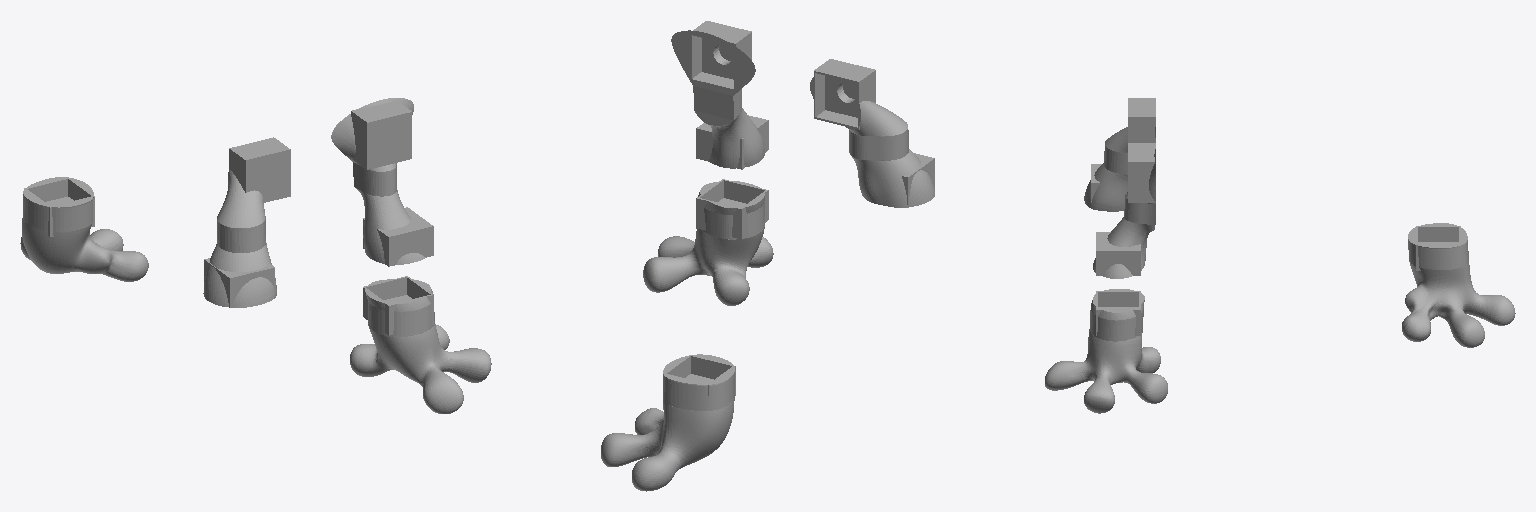
URDF robot description (FrogBot1_top-FrogBot1-y-5_bottom-FrogBot1-y-5):
<?xml version="1.0" ?>
<robot name="FrogBot1_top-FrogBot1-y-5_bottom-FrogBot1-y-5">

<material name="pla_5_percent_infill">
  <color rgba="0.700 0.700 0.700 1.000"/>
</material>

<link name="base_link">
  <inertial>
    <origin xyz="0 0 0" rpy="0 0 0"/>
    <mass value="1.4103143072721238"/>
    <inertia ixx="0.004671865419262023" iyy="0.01102984328633242" izz="0.011972094032648898" ixy="0.00015185420958179873" iyz="8.583160306759328e-05" ixz="-0.0012132770853355082"/>
  </inertial>
  <visual>
    <origin xyz="0 0 0" rpy="0 0 0"/>
    <geometry>
      <mesh filename="simple_meshes/base_link.stl" scale="0.001 0.001 0.001"/>
    </geometry>
    <material name="pla_5_percent_infill"/>
  </visual>
  <collision>
    <origin xyz="0 0 0" rpy="0 0 0"/>
    <geometry>
      <mesh filename="simple_meshes/base_link.stl" scale="0.001 0.001 0.001"/>
    </geometry>
  </collision>
</link>

<link name="body_1_0_1">
  <inertial>
    <origin xyz="-0.045735 -0.109621 -0.00462" rpy="0 0 0"/>
    <mass value="0.04076733192908442"/>
    <inertia ixx="4.3072086098041576e-05" iyy="4.487010193946435e-05" izz="1.4727795073479029e-05" ixy="-4.484853652475659e-07" iyz="3.1374613737960005e-06" ixz="6.302743278860018e-07"/>
  </inertial>
  <visual>
    <origin xyz="-0.045735 -0.109621 -0.00462" rpy="0 0 0"/>
    <geometry>
      <mesh filename="simple_meshes/body_1_0_1.stl" scale="0.001 0.001 0.001"/>
    </geometry>
    <material name="pla_5_percent_infill"/>
  </visual>
  <collision>
    <origin xyz="-0.045735 -0.109621 -0.00462" rpy="0 0 0"/>
    <geometry>
      <mesh filename="simple_meshes/body_1_0_1.stl" scale="0.001 0.001 0.001"/>
    </geometry>
  </collision>
</link>

<link name="body_1_1_1">
  <inertial>
    <origin xyz="0.086489 -0.109621 -0.018802" rpy="0 0 0"/>
    <mass value="0.0738080375296614"/>
    <inertia ixx="8.428066584774451e-05" iyy="9.202499150781141e-05" izz="4.261502619134182e-05" ixy="6.065863290844386e-06" iyz="1.3777161068049767e-05" ixz="-2.092802454114692e-05"/>
  </inertial>
  <visual>
    <origin xyz="0.086489 -0.109621 -0.018802" rpy="0 0 0"/>
    <geometry>
      <mesh filename="simple_meshes/body_1_1_1.stl" scale="0.001 0.001 0.001"/>
    </geometry>
    <material name="pla_5_percent_infill"/>
  </visual>
  <collision>
    <origin xyz="0.086489 -0.109621 -0.018802" rpy="0 0 0"/>
    <geometry>
      <mesh filename="simple_meshes/body_1_1_1.stl" scale="0.001 0.001 0.001"/>
    </geometry>
  </collision>
</link>

<link name="body_1_2_1">
  <inertial>
    <origin xyz="-0.040267 0.109621 -0.027764" rpy="0 0 0"/>
    <mass value="0.05244313767564796"/>
    <inertia ixx="8.364642834632016e-05" iyy="8.220677656846922e-05" izz="2.305007954526788e-05" ixy="6.326543817606147e-07" iyz="-1.4212112030879086e-05" ixz="-1.8209087853273255e-07"/>
  </inertial>
  <visual>
    <origin xyz="-0.040267 0.109621 -0.027764" rpy="0 0 0"/>
    <geometry>
      <mesh filename="simple_meshes/body_1_2_1.stl" scale="0.001 0.001 0.001"/>
    </geometry>
    <material name="pla_5_percent_infill"/>
  </visual>
  <collision>
    <origin xyz="-0.040267 0.109621 -0.027764" rpy="0 0 0"/>
    <geometry>
      <mesh filename="simple_meshes/body_1_2_1.stl" scale="0.001 0.001 0.001"/>
    </geometry>
  </collision>
</link>

<link name="body_1_3_1">
  <inertial>
    <origin xyz="0.090407 0.109621 -0.022193" rpy="0 0 0"/>
    <mass value="0.07409915978361464"/>
    <inertia ixx="9.221727456455156e-05" iyy="0.00010198915454674175" izz="4.6188990378510496e-05" ixy="-7.4524640316783394e-06" iyz="-1.69424132627028e-05" ixz="-2.5273653570648393e-05"/>
  </inertial>
  <visual>
    <origin xyz="0.090407 0.109621 -0.022193" rpy="0 0 0"/>
    <geometry>
      <mesh filename="simple_meshes/body_1_3_1.stl" scale="0.001 0.001 0.001"/>
    </geometry>
    <material name="pla_5_percent_infill"/>
  </visual>
  <collision>
    <origin xyz="0.090407 0.109621 -0.022193" rpy="0 0 0"/>
    <geometry>
      <mesh filename="simple_meshes/body_1_3_1.stl" scale="0.001 0.001 0.001"/>
    </geometry>
  </collision>
</link>

<link name="body_2_0_1">
  <inertial>
    <origin xyz="-0.049562 -0.159797 0.100064" rpy="0 0 0"/>
    <mass value="0.10811204263073429"/>
    <inertia ixx="0.0001296270715975727" iyy="0.0001448192737564932" izz="0.00014160264170748685" ixy="-5.01968264476362e-06" iyz="-3.897132136191847e-07" ixz="3.5147523498524824e-05"/>
  </inertial>
  <visual>
    <origin xyz="-0.049562 -0.159797 0.100064" rpy="0 0 0"/>
    <geometry>
      <mesh filename="simple_meshes/body_2_0_1.stl" scale="0.001 0.001 0.001"/>
    </geometry>
    <material name="pla_5_percent_infill"/>
  </visual>
  <collision>
    <origin xyz="-0.049562 -0.159797 0.100064" rpy="0 0 0"/>
    <geometry>
      <mesh filename="simple_meshes/body_2_0_1.stl" scale="0.001 0.001 0.001"/>
    </geometry>
  </collision>
</link>

<link name="body_2_1_1">
  <inertial>
    <origin xyz="0.121182 -0.173952 0.100064" rpy="0 0 0"/>
    <mass value="0.11675508602688964"/>
    <inertia ixx="0.00014016851503456402" iyy="0.0001496292654854913" izz="0.00014918904277608572" ixy="-1.001204746258616e-06" iyz="2.1030335617568466e-05" ixz="3.9707801611993734e-05"/>
  </inertial>
  <visual>
    <origin xyz="0.121182 -0.173952 0.100064" rpy="0 0 0"/>
    <geometry>
      <mesh filename="simple_meshes/body_2_1_1.stl" scale="0.001 0.001 0.001"/>
    </geometry>
    <material name="pla_5_percent_infill"/>
  </visual>
  <collision>
    <origin xyz="0.121182 -0.173952 0.100064" rpy="0 0 0"/>
    <geometry>
      <mesh filename="simple_meshes/body_2_1_1.stl" scale="0.001 0.001 0.001"/>
    </geometry>
  </collision>
</link>

<link name="body_2_2_1">
  <inertial>
    <origin xyz="-0.04311 0.170506 0.100064" rpy="0 0 0"/>
    <mass value="0.11011650246956318"/>
    <inertia ixx="0.00013765479642776322" iyy="0.00013402836888504275" izz="0.00014289923491626498" ixy="1.5632258049552445e-06" iyz="-8.198732522770365e-06" ixz="2.5820512885999045e-05"/>
  </inertial>
  <visual>
    <origin xyz="-0.04311 0.170506 0.100064" rpy="0 0 0"/>
    <geometry>
      <mesh filename="simple_meshes/body_2_2_1.stl" scale="0.001 0.001 0.001"/>
    </geometry>
    <material name="pla_5_percent_infill"/>
  </visual>
  <collision>
    <origin xyz="-0.04311 0.170506 0.100064" rpy="0 0 0"/>
    <geometry>
      <mesh filename="simple_meshes/body_2_2_1.stl" scale="0.001 0.001 0.001"/>
    </geometry>
  </collision>
</link>

<link name="body_2_3_1">
  <inertial>
    <origin xyz="0.129712 0.175384 0.100064" rpy="0 0 0"/>
    <mass value="0.11591532140467317"/>
    <inertia ixx="0.00015002481395075176" iyy="0.00014696851345069595" izz="0.00013994016322860757" ixy="7.428943179016954e-06" iyz="-2.6717702841962034e-05" ixz="3.8860585556110914e-05"/>
  </inertial>
  <visual>
    <origin xyz="0.129712 0.175384 0.100064" rpy="0 0 0"/>
    <geometry>
      <mesh filename="simple_meshes/body_2_3_1.stl" scale="0.001 0.001 0.001"/>
    </geometry>
    <material name="pla_5_percent_infill"/>
  </visual>
  <collision>
    <origin xyz="0.129712 0.175384 0.100064" rpy="0 0 0"/>
    <geometry>
      <mesh filename="simple_meshes/body_2_3_1.stl" scale="0.001 0.001 0.001"/>
    </geometry>
  </collision>
</link>

<joint name="joint_1_0" type="revolute">
  <origin xyz="0.045735 0.109621 0.00462" rpy="0 0 0"/>
  <parent link="base_link"/>
  <child link="body_1_0_1"/>
  <axis xyz="0.0 0.0 -1.0"/>
  <limit upper="1.2" lower="-1.2" effort="3.8" velocity="5.4"/>
</joint>
<transmission name="joint_1_0_tran">
  <type>transmission_interface/SimpleTransmission</type>
  <joint name="joint_1_0">
    <hardwareInterface>PositionJointInterface</hardwareInterface>
  </joint>
  <actuator name="joint_1_0_actr">
    <hardwareInterface>PositionJointInterface</hardwareInterface>
    <mechanicalReduction>1</mechanicalReduction>
  </actuator>
</transmission>

<joint name="joint_1_1" type="revolute">
  <origin xyz="-0.086489 0.109621 0.018802" rpy="0 0 0"/>
  <parent link="base_link"/>
  <child link="body_1_1_1"/>
  <axis xyz="0.0 0.0 -1.0"/>
  <limit upper="1.2" lower="-1.2" effort="3.8" velocity="5.4"/>
</joint>
<transmission name="joint_1_1_tran">
  <type>transmission_interface/SimpleTransmission</type>
  <joint name="joint_1_1">
    <hardwareInterface>PositionJointInterface</hardwareInterface>
  </joint>
  <actuator name="joint_1_1_actr">
    <hardwareInterface>PositionJointInterface</hardwareInterface>
    <mechanicalReduction>1</mechanicalReduction>
  </actuator>
</transmission>

<joint name="joint_1_2" type="revolute">
  <origin xyz="0.040267 -0.109621 0.027764" rpy="0 0 0"/>
  <parent link="base_link"/>
  <child link="body_1_2_1"/>
  <axis xyz="0.0 0.0 -1.0"/>
  <limit upper="1.2" lower="-1.2" effort="3.8" velocity="5.4"/>
</joint>
<transmission name="joint_1_2_tran">
  <type>transmission_interface/SimpleTransmission</type>
  <joint name="joint_1_2">
    <hardwareInterface>PositionJointInterface</hardwareInterface>
  </joint>
  <actuator name="joint_1_2_actr">
    <hardwareInterface>PositionJointInterface</hardwareInterface>
    <mechanicalReduction>1</mechanicalReduction>
  </actuator>
</transmission>

<joint name="joint_1_3" type="revolute">
  <origin xyz="-0.090407 -0.109621 0.022193" rpy="0 0 0"/>
  <parent link="base_link"/>
  <child link="body_1_3_1"/>
  <axis xyz="0.0 0.0 -1.0"/>
  <limit upper="1.2" lower="-1.2" effort="3.8" velocity="5.4"/>
</joint>
<transmission name="joint_1_3_tran">
  <type>transmission_interface/SimpleTransmission</type>
  <joint name="joint_1_3">
    <hardwareInterface>PositionJointInterface</hardwareInterface>
  </joint>
  <actuator name="joint_1_3_actr">
    <hardwareInterface>PositionJointInterface</hardwareInterface>
    <mechanicalReduction>1</mechanicalReduction>
  </actuator>
</transmission>

<joint name="joint_2_0" type="revolute">
  <origin xyz="0.003827 0.050176 -0.104684" rpy="0 0 0"/>
  <parent link="body_1_0_1"/>
  <child link="body_2_0_1"/>
  <axis xyz="0.0 1.0 0.0"/>
  <limit upper="1.2" lower="-1.2" effort="3.8" velocity="5.4"/>
</joint>
<transmission name="joint_2_0_tran">
  <type>transmission_interface/SimpleTransmission</type>
  <joint name="joint_2_0">
    <hardwareInterface>PositionJointInterface</hardwareInterface>
  </joint>
  <actuator name="joint_2_0_actr">
    <hardwareInterface>PositionJointInterface</hardwareInterface>
    <mechanicalReduction>1</mechanicalReduction>
  </actuator>
</transmission>

<joint name="joint_2_1" type="revolute">
  <origin xyz="-0.034693 0.064331 -0.118866" rpy="0 0 0"/>
  <parent link="body_1_1_1"/>
  <child link="body_2_1_1"/>
  <axis xyz="0.0 1.0 0.0"/>
  <limit upper="1.2" lower="-1.2" effort="3.8" velocity="5.4"/>
</joint>
<transmission name="joint_2_1_tran">
  <type>transmission_interface/SimpleTransmission</type>
  <joint name="joint_2_1">
    <hardwareInterface>PositionJointInterface</hardwareInterface>
  </joint>
  <actuator name="joint_2_1_actr">
    <hardwareInterface>PositionJointInterface</hardwareInterface>
    <mechanicalReduction>1</mechanicalReduction>
  </actuator>
</transmission>

<joint name="joint_2_2" type="revolute">
  <origin xyz="0.002843 -0.060885 -0.127828" rpy="0 0 0"/>
  <parent link="body_1_2_1"/>
  <child link="body_2_2_1"/>
  <axis xyz="0.0 1.0 0.0"/>
  <limit upper="1.2" lower="-1.2" effort="3.8" velocity="5.4"/>
</joint>
<transmission name="joint_2_2_tran">
  <type>transmission_interface/SimpleTransmission</type>
  <joint name="joint_2_2">
    <hardwareInterface>PositionJointInterface</hardwareInterface>
  </joint>
  <actuator name="joint_2_2_actr">
    <hardwareInterface>PositionJointInterface</hardwareInterface>
    <mechanicalReduction>1</mechanicalReduction>
  </actuator>
</transmission>

<joint name="joint_2_3" type="revolute">
  <origin xyz="-0.039305 -0.065763 -0.122257" rpy="0 0 0"/>
  <parent link="body_1_3_1"/>
  <child link="body_2_3_1"/>
  <axis xyz="0.0 1.0 0.0"/>
  <limit upper="1.2" lower="-1.2" effort="3.8" velocity="5.4"/>
</joint>
<transmission name="joint_2_3_tran">
  <type>transmission_interface/SimpleTransmission</type>
  <joint name="joint_2_3">
    <hardwareInterface>PositionJointInterface</hardwareInterface>
  </joint>
  <actuator name="joint_2_3_actr">
    <hardwareInterface>PositionJointInterface</hardwareInterface>
    <mechanicalReduction>1</mechanicalReduction>
  </actuator>
</transmission>

</robot>

--- What the picture shows (computed from the rendered views, not written in the file) ---
The picture shows the robot from 3 angles, left to right: view 1: azimuth 30°, elevation 25°; view 2: azimuth 150°, elevation 25°; view 3: azimuth 270°, elevation 25°; orthographic projection.
Robot: FrogBot1_top-FrogBot1-y-5_bottom-FrogBot1-y-5 — 9 links, 8 joints (8 revolute); root link base_link; default pose: every joint at zero.
Links seen in each view (by area): view 1: body_2_2_1, body_1_3_1, body_1_2_1, body_2_1_1; view 2: body_2_1_1, body_1_3_1, body_2_2_1, body_1_2_1; view 3: body_2_1_1, body_2_2_1, body_1_2_1, body_1_3_1.
Link boxes in pixels (x1,y1,x2,y2): body_2_2_1: (350,276,491,413); body_1_3_1: (203,137,290,307); body_1_2_1: (331,98,433,266); body_2_1_1: (20,177,148,281); body_2_1_1: (601,354,735,491); body_1_3_1: (810,59,934,207); body_2_2_1: (643,179,773,305); body_1_2_1: (671,21,768,169); body_2_1_1: (1402,223,1515,347); body_2_2_1: (1045,289,1167,413); body_1_2_1: (1093,143,1155,278); body_1_3_1: (1084,98,1155,211).
Bounding box of the posed robot: 0.2923 × 0.5072 × 0.2791 m (x, y, z).
4 mesh visuals loaded from 9 distinct referenced files (4 binary STL); not drawn: 5 (reference not matched to a file when rendering).